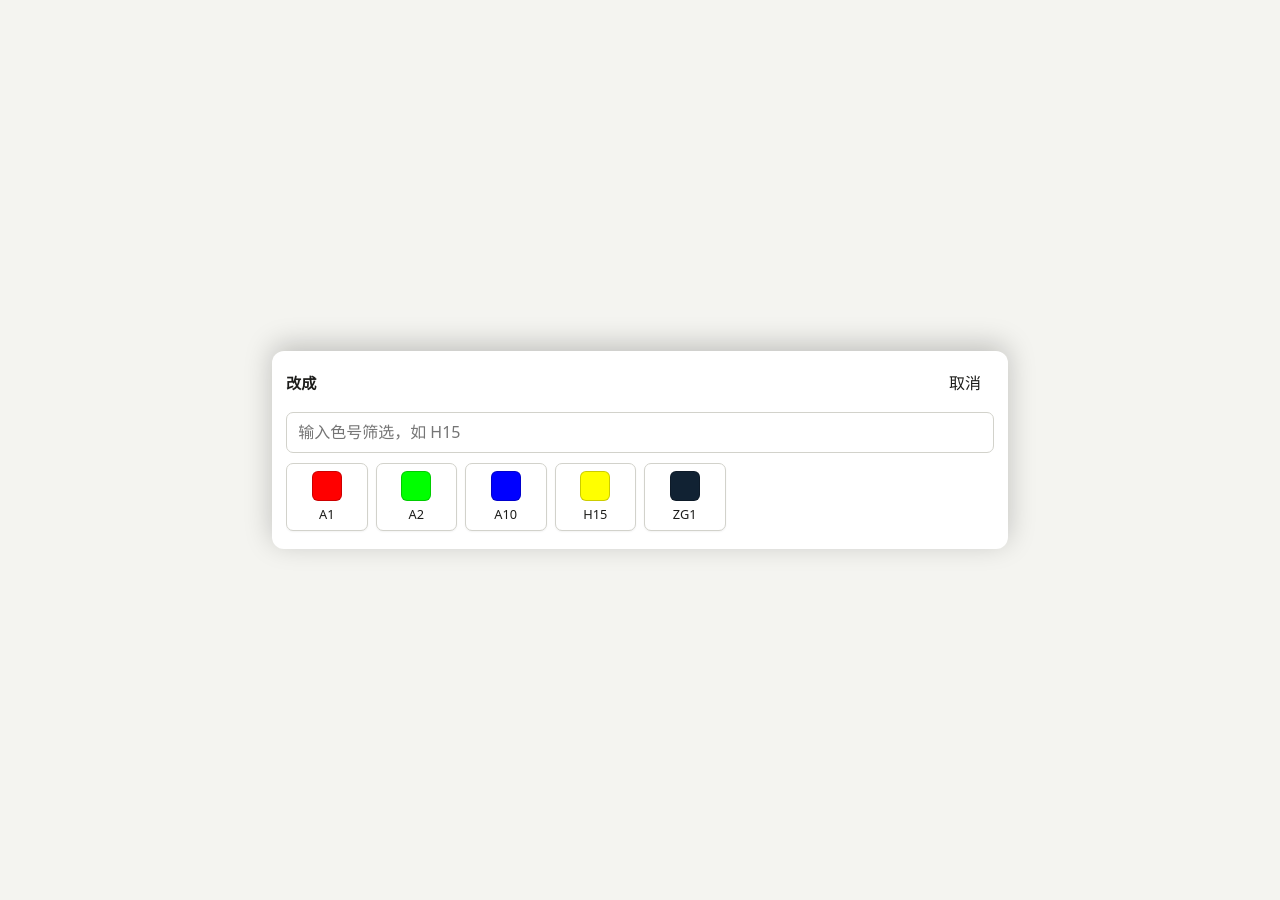
Test: 自定义色不出现——后端只认 BASE 色卡，选了会 422
Type "MY" into the dropdown at {"x": 640, "y": 432}, box [286,412,994,453]
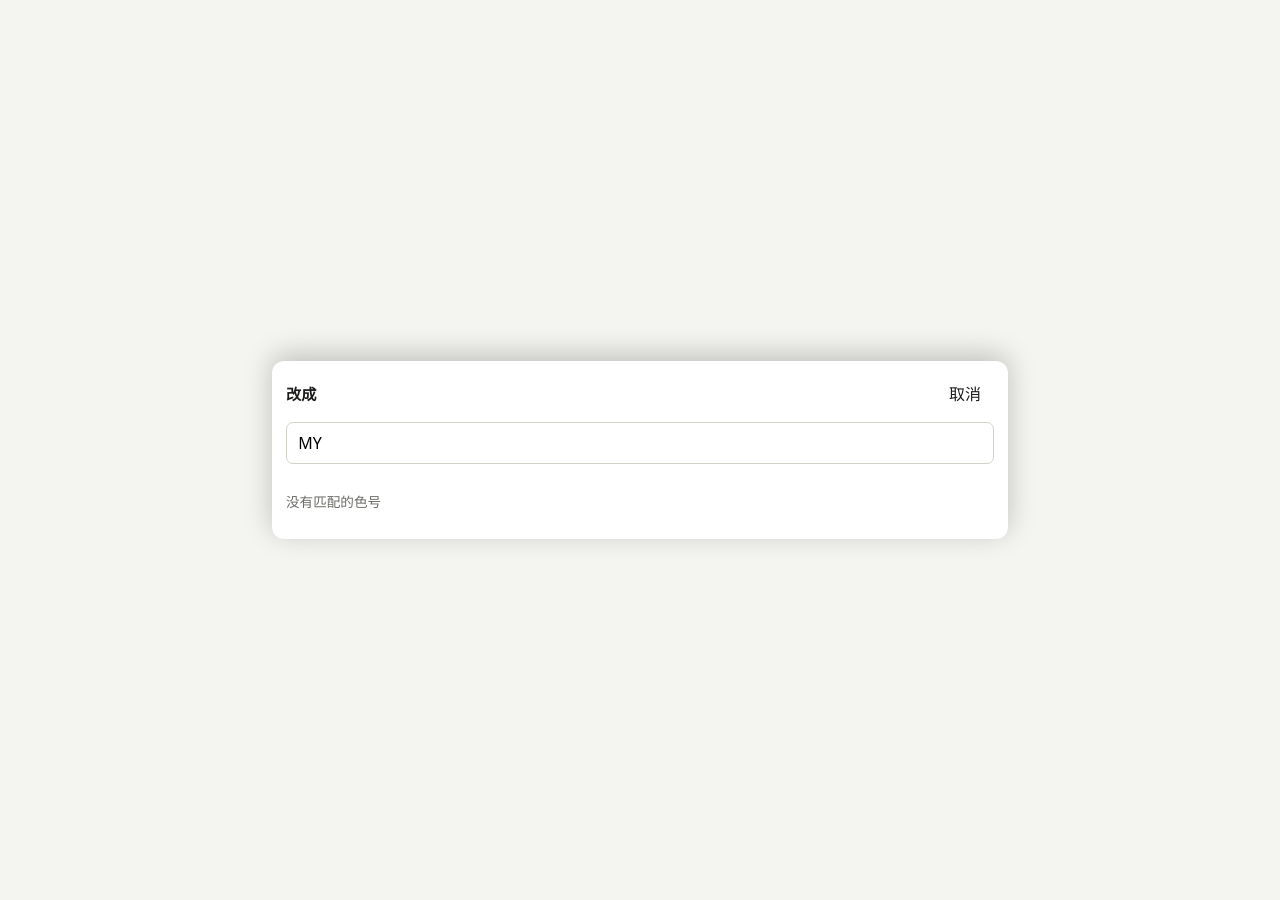
Check: the option is gone
Check: the text "没有匹配的色号" is shown, box [286,492,381,511]
